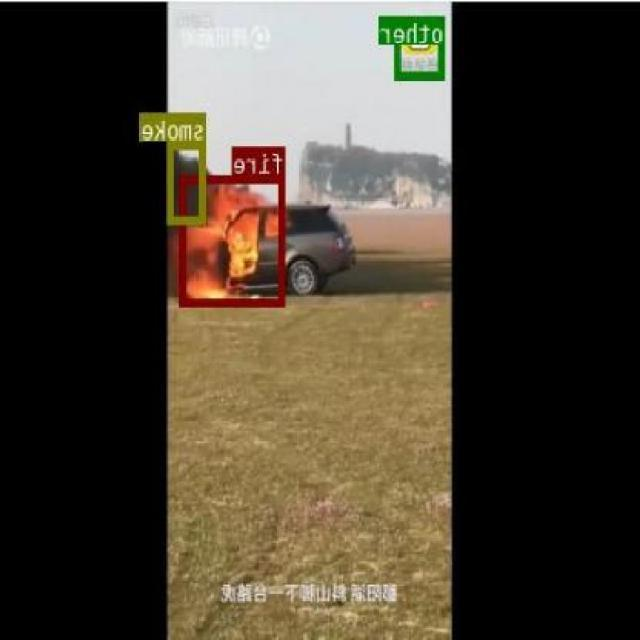Fire: (182, 172, 286, 306)
Smoke: (170, 140, 208, 222)
